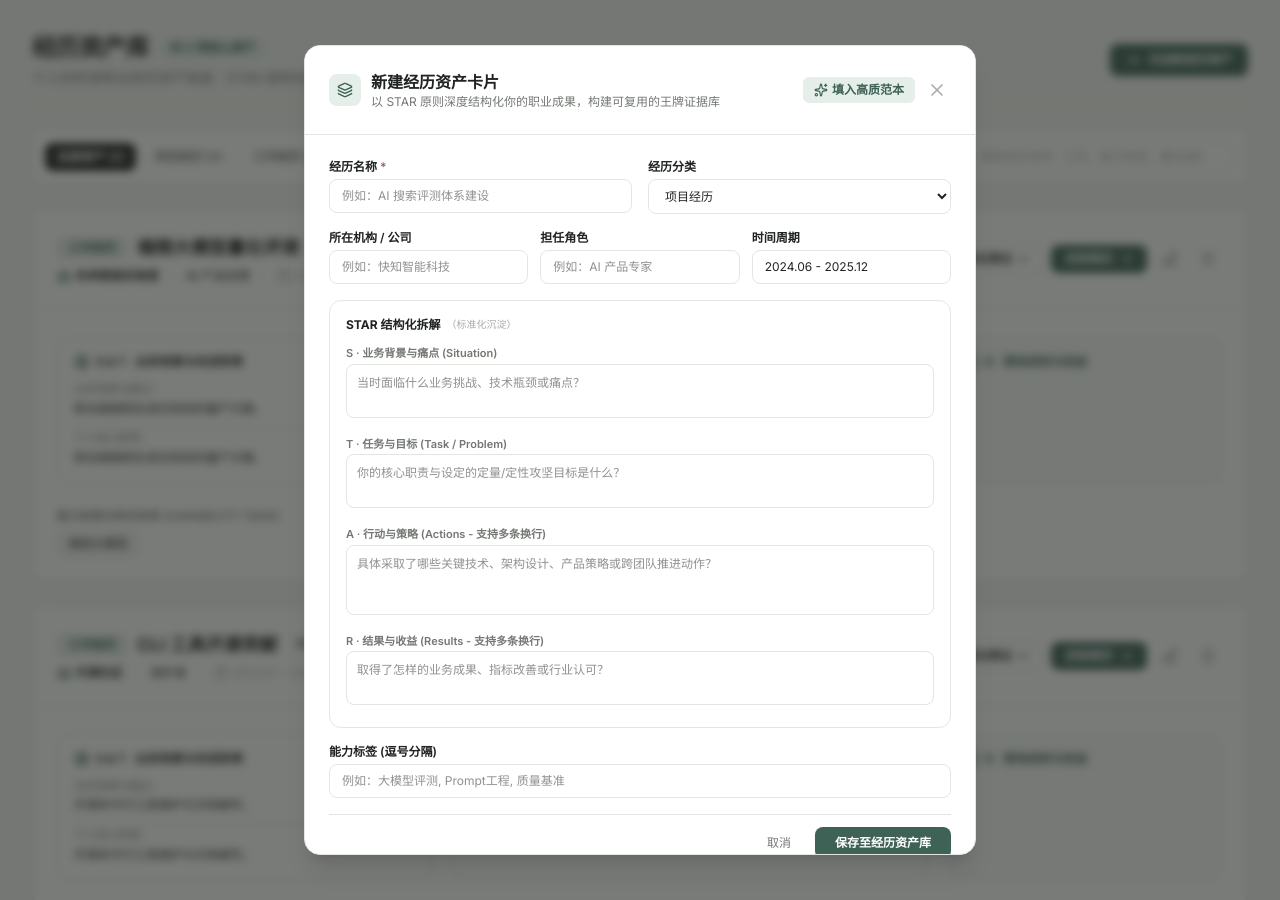
Test: useExperiencesQuery 迁移视图 › create：cache 前置写入（未迁移视图可读）
The image size is (1280, 900).
Expected: the heading "端侧大模型量化评测" is shown, [137,234,299,262]
Step 1. Type "新经历" into the field with placeholder "例如：AI 搜索评测体系建设" → (480, 196), box [329,179,632,213]
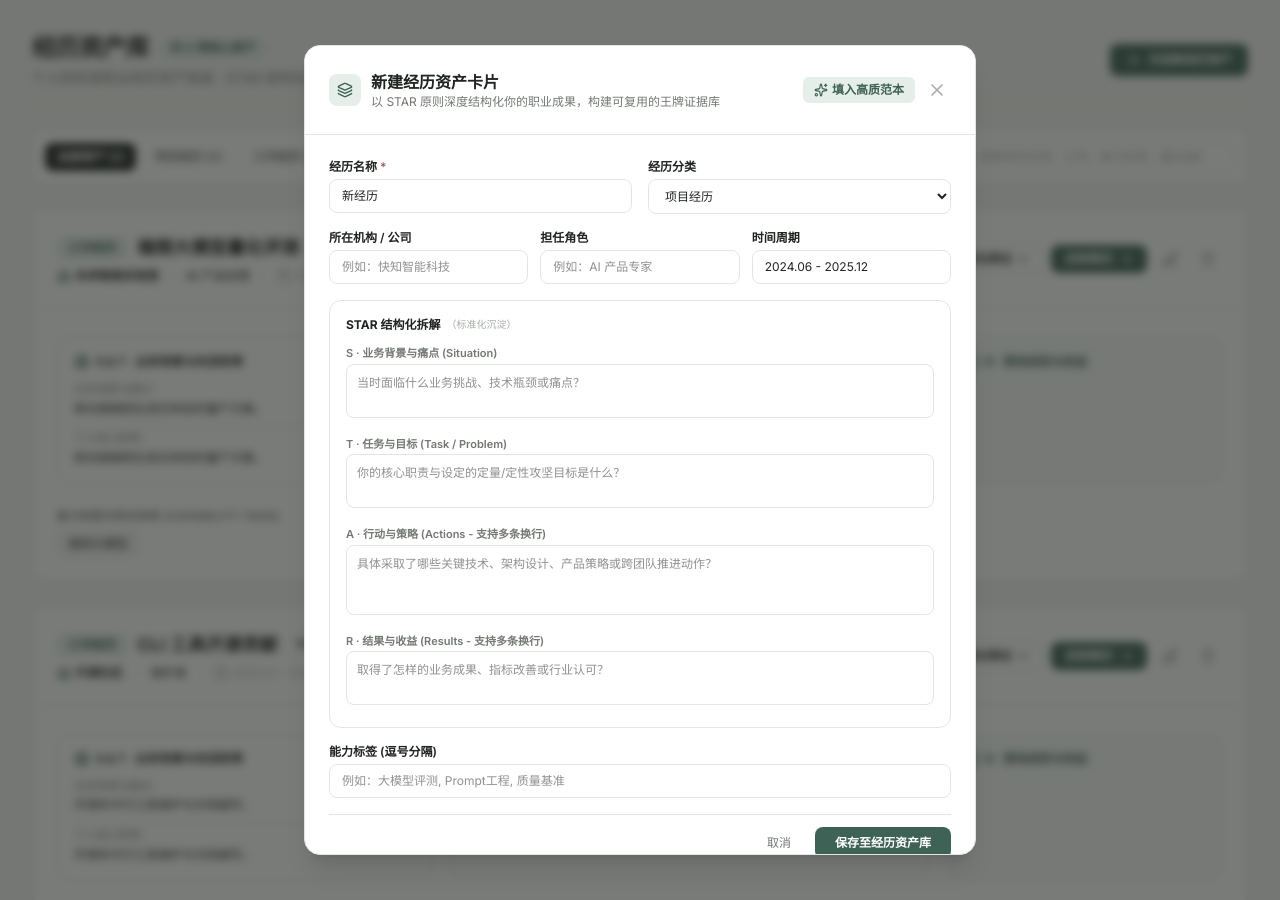
Step 2. Type "新公司" into the field with placeholder "例如：快知智能科技" → (429, 267), box [329,250,528,284]
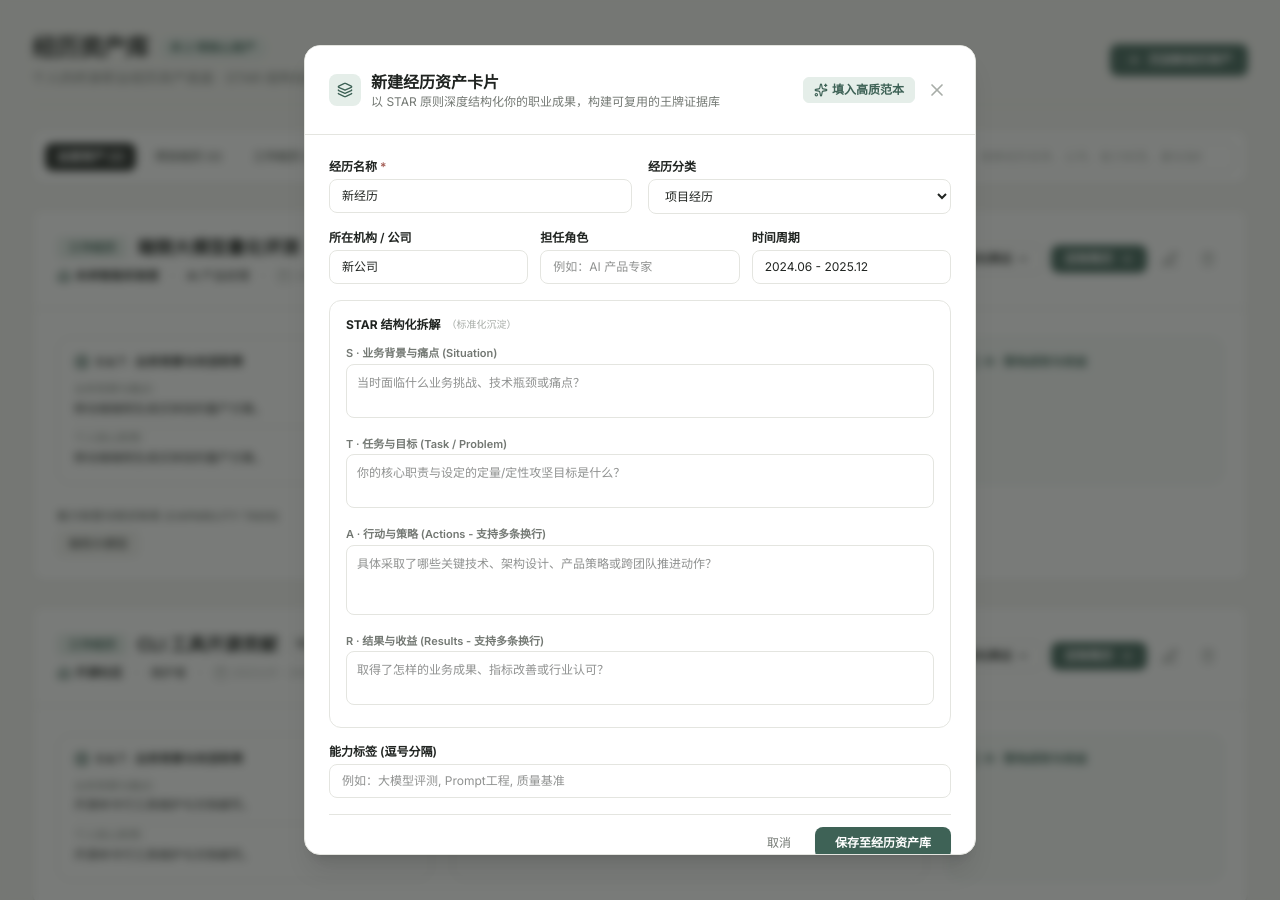
Step 3. Click the button "保存至经历资产库" → (883, 843), box [815,827,951,859]
(page scrolled)
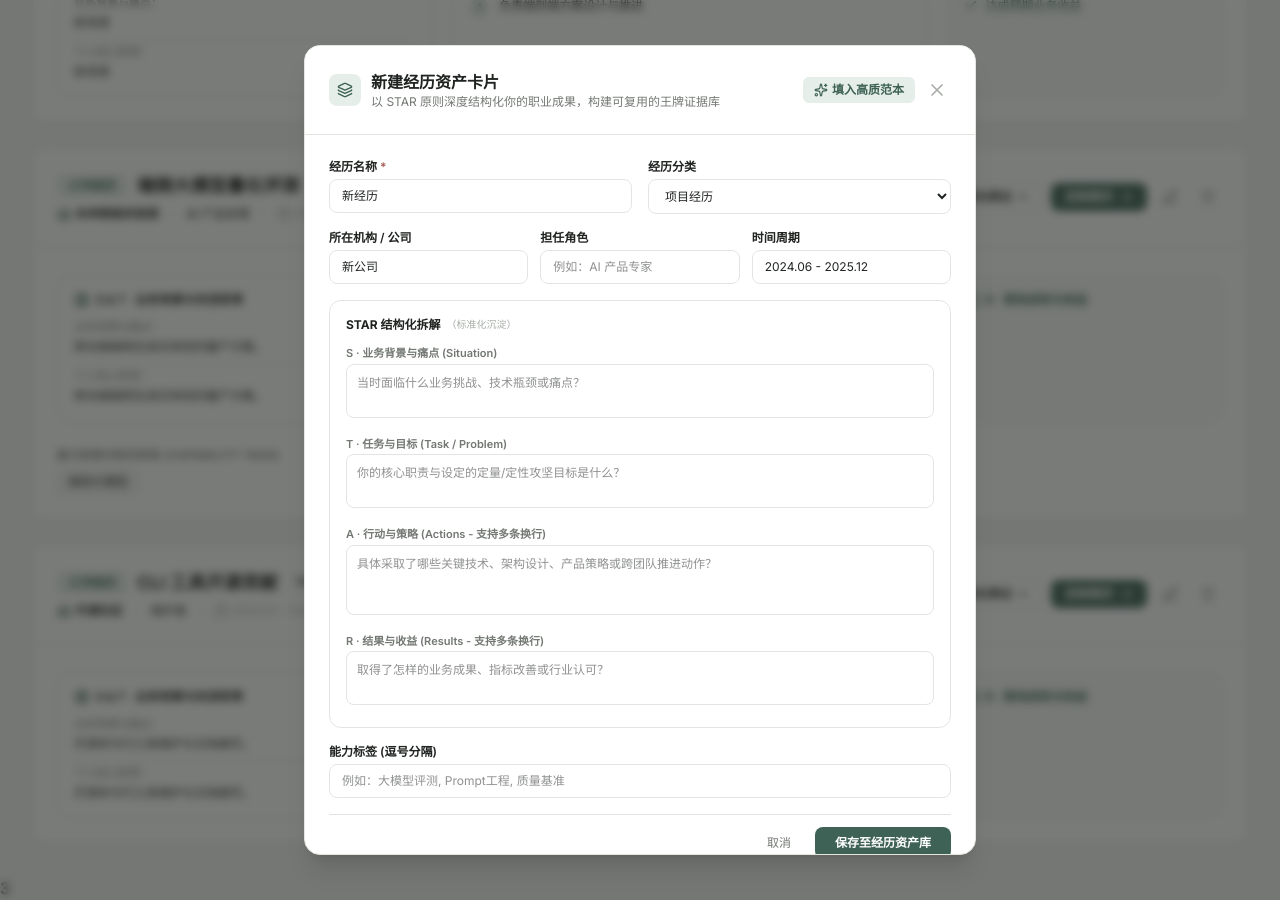
Expected: the text with test id "exp-cache-count" reads "3", [0,878,10,898]
